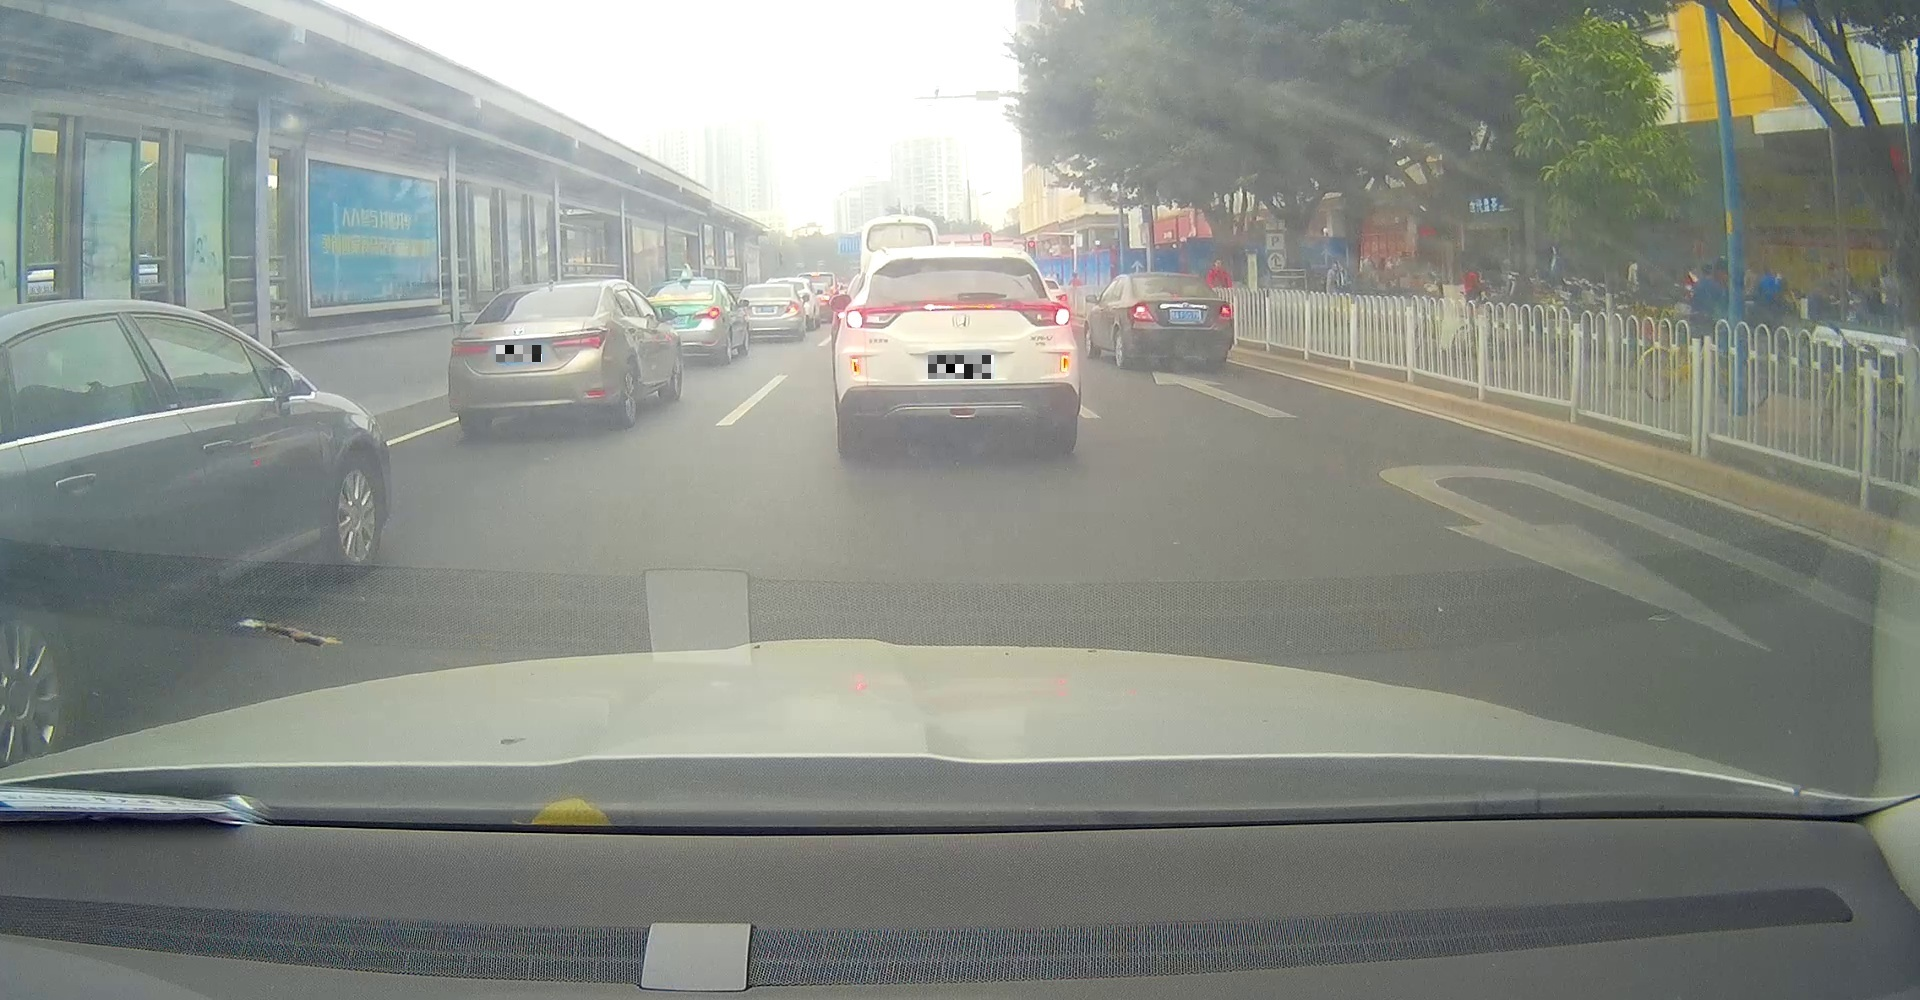L_light: (844, 306, 910, 329), (450, 336, 493, 355), (1128, 301, 1156, 322)
R_light: (1008, 298, 1072, 327), (550, 326, 610, 349), (1217, 303, 1232, 317)
T_light: (914, 303, 1004, 310), (513, 313, 543, 319), (1171, 293, 1187, 297)
day-brake: (833, 242, 1081, 453), (1124, 272, 1236, 368)
day-no: (446, 275, 616, 430)
plate_1: (497, 345, 542, 362)
plate_2: (928, 355, 994, 379)
